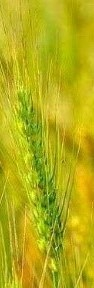Healthy Wheat: (12, 80, 70, 266)
